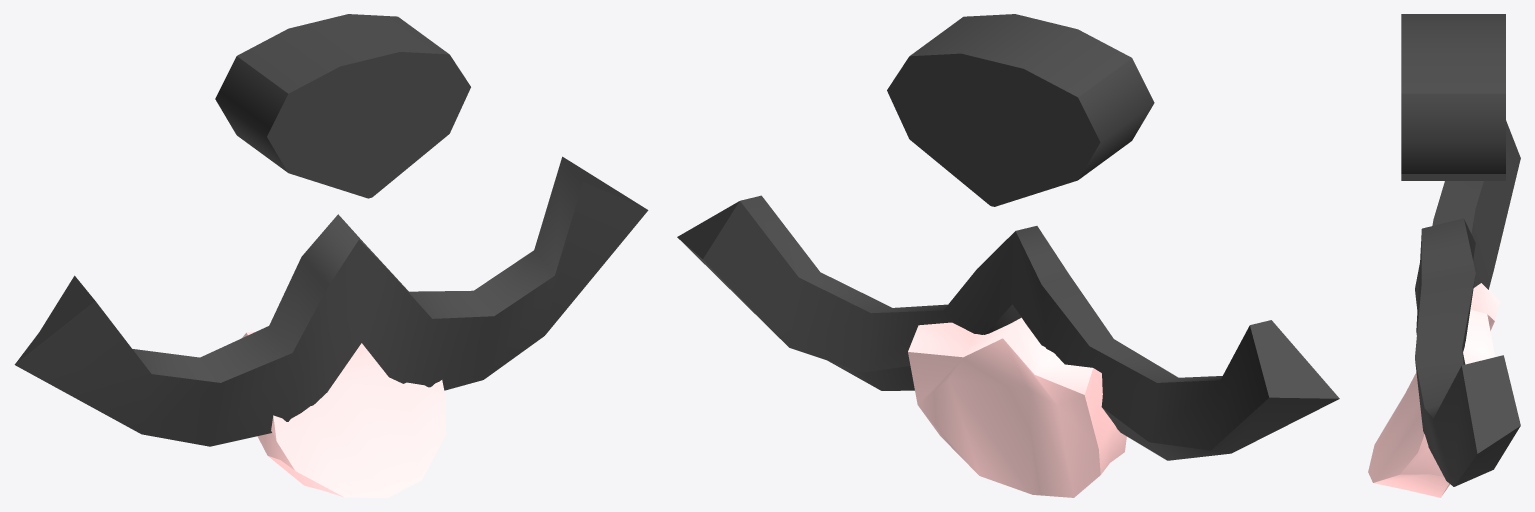
The model's file is NewJeans_HANI_mouth.gltf.
3 renders of one model, left to right at view 1: azimuth 30°, elevation 25°; view 2: azimuth 150°, elevation 25°; view 3: azimuth 270°, elevation 25°, orthographic. The views are drawn at different scales.
Visible parts, largest first — view 1: HANI_mouth, nose; view 2: HANI_mouth, nose; view 3: HANI_mouth, nose.
Part boxes in pixels (left/top/right/bottom): HANI_mouth: left=14, top=156, right=648, bottom=497; nose: left=215, top=14, right=470, bottom=198; HANI_mouth: left=677, top=195, right=1339, bottom=497; nose: left=887, top=14, right=1154, bottom=206; HANI_mouth: left=1368, top=120, right=1520, bottom=497; nose: left=1401, top=14, right=1505, bottom=180.
Bounding box in the file's own units: 0.0113 × 0.00756 × 0.00234.
